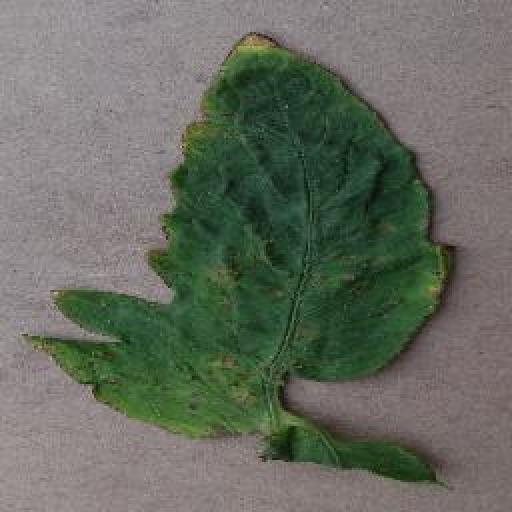Bacterial Spot: (20, 27, 449, 441)
